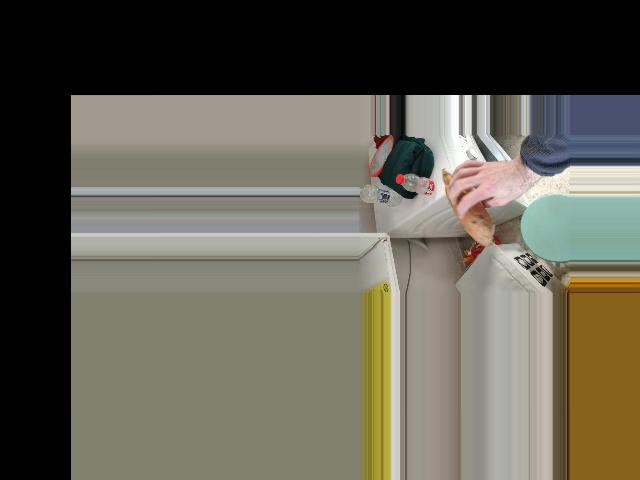sweet_potato: (445, 165, 495, 242)
